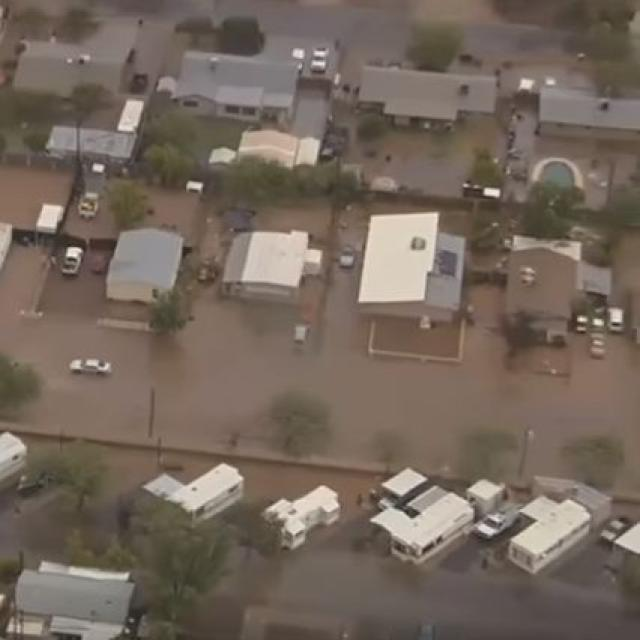flooded_areas: (1, 147, 638, 473)
